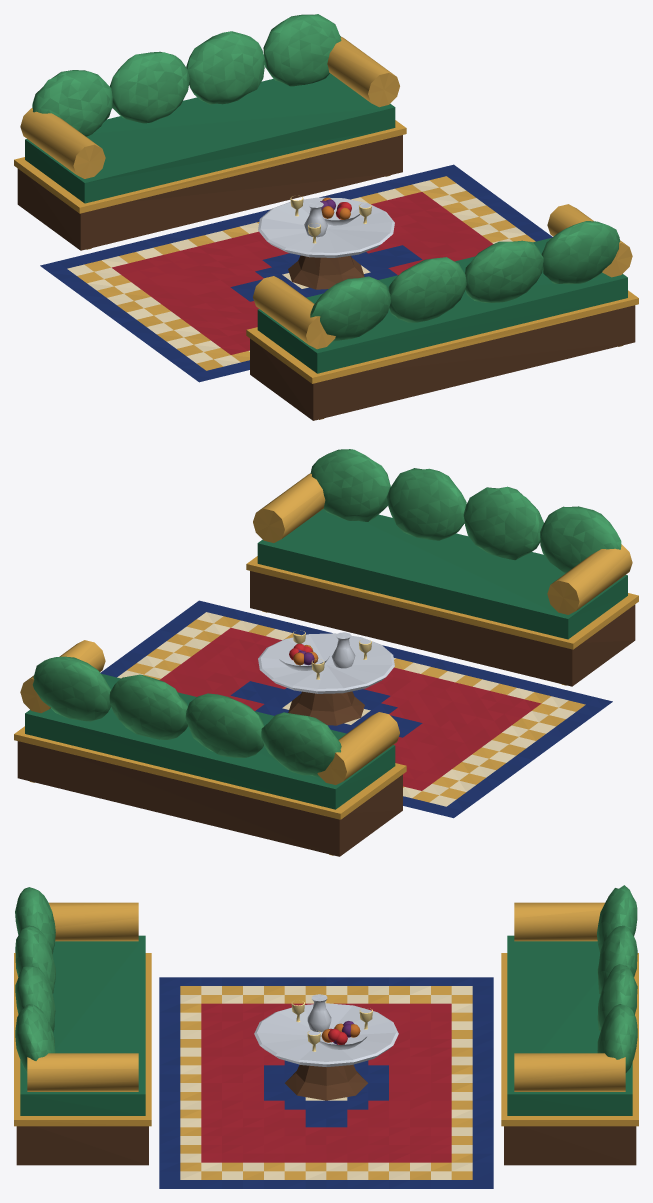
The model's file is ZB_yapi_sedir_kosesi.glb.
3 renders of one model, top to bottom at view 1: azimuth 30°, elevation 25°; view 2: azimuth 150°, elevation 25°; view 3: azimuth 270°, elevation 25°, orthographic. The views are drawn at different scales.
Visible parts, largest first — view 1: ZB_yapi_sedir_kosesi; view 2: ZB_yapi_sedir_kosesi; view 3: ZB_yapi_sedir_kosesi.
Part boxes in pixels (left/top/right/bottom): ZB_yapi_sedir_kosesi: left=14, top=14, right=638, bottom=420; ZB_yapi_sedir_kosesi: left=14, top=449, right=638, bottom=856; ZB_yapi_sedir_kosesi: left=14, top=885, right=638, bottom=1188.
Bounding box in the file's own units: 3.6 × 1.1 × 4.49.
